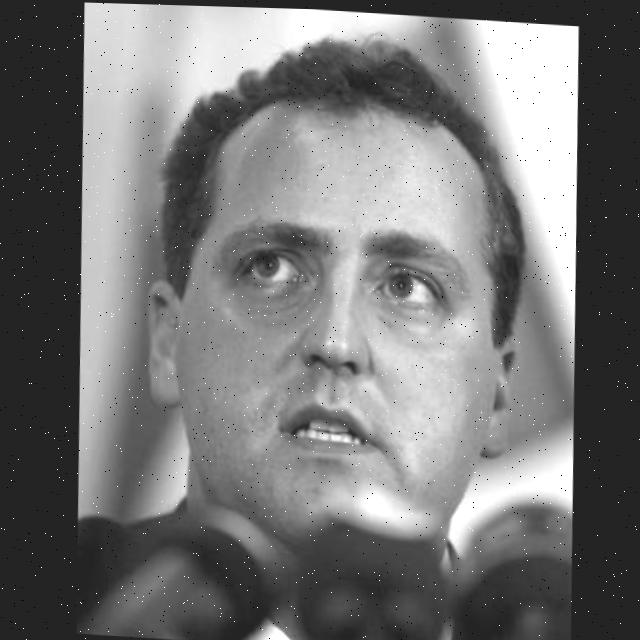face: (123, 20, 552, 602)
